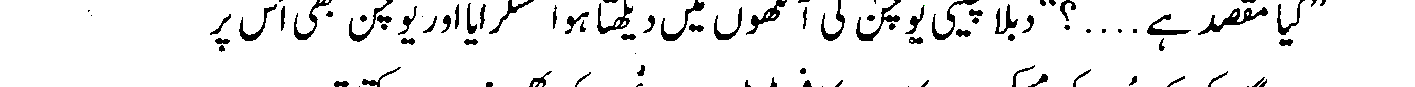bay_shosha: (1004, 15, 1020, 42)
